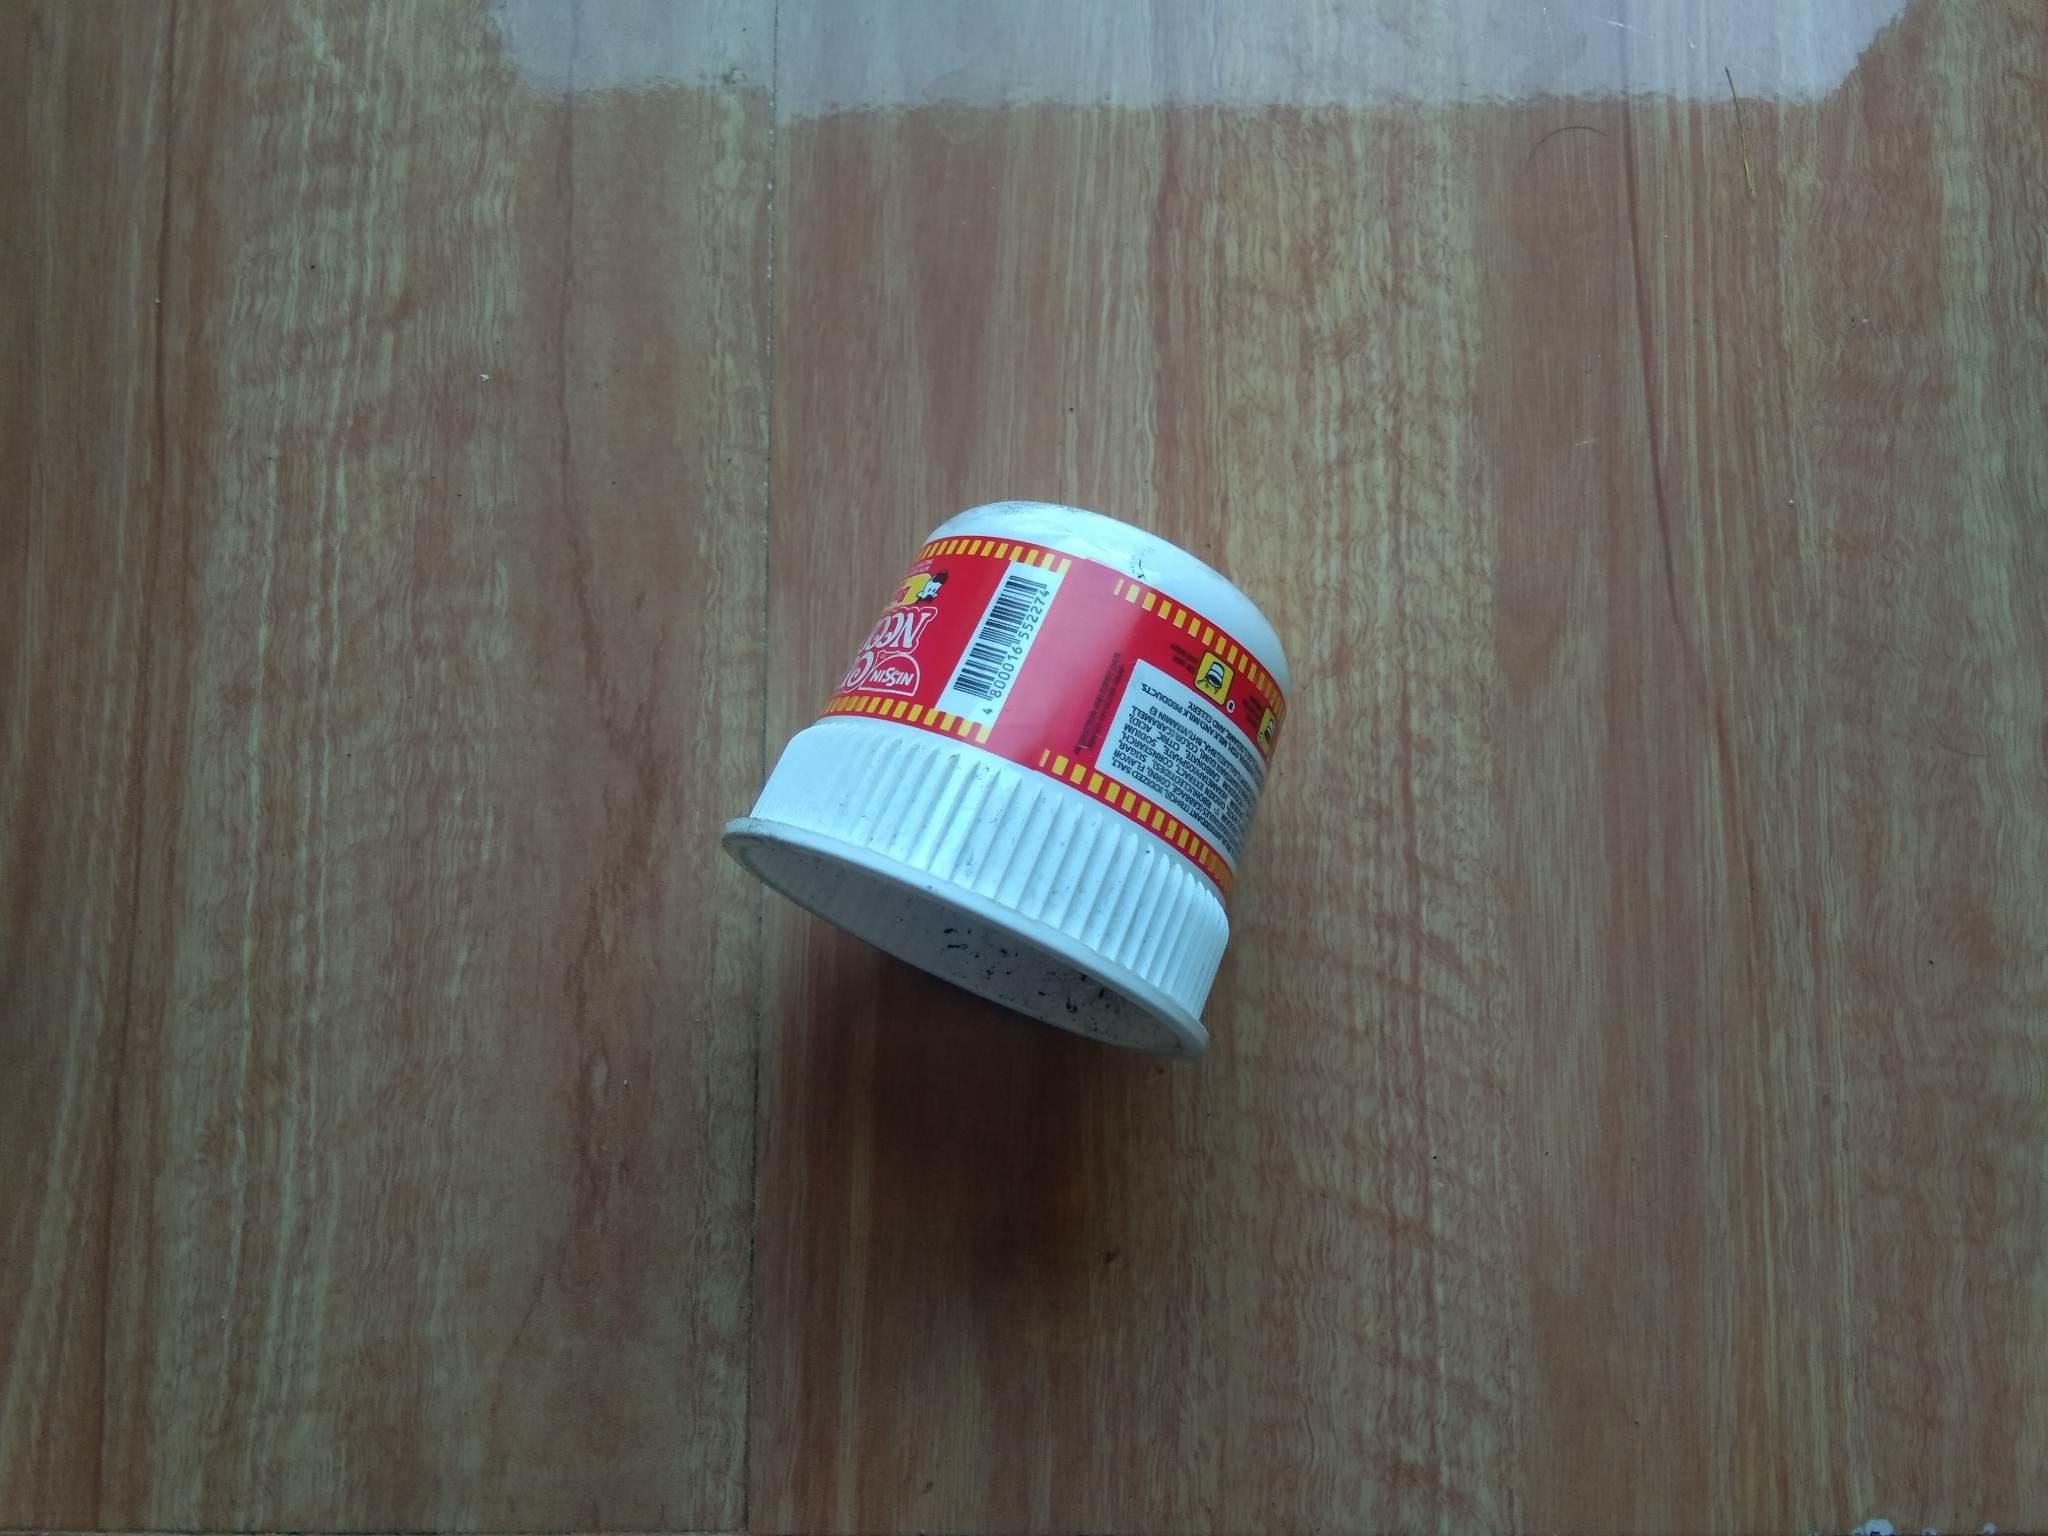plastic: (698, 386, 1400, 1108)
